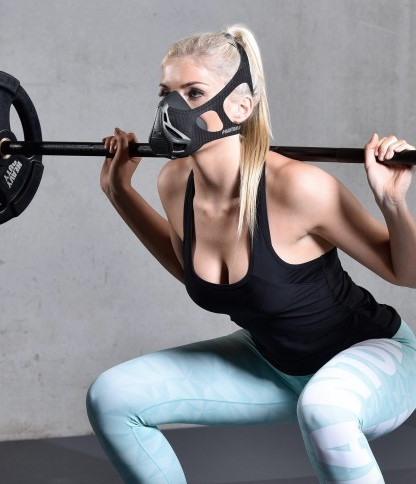face_with_mask: (148, 31, 256, 158)
